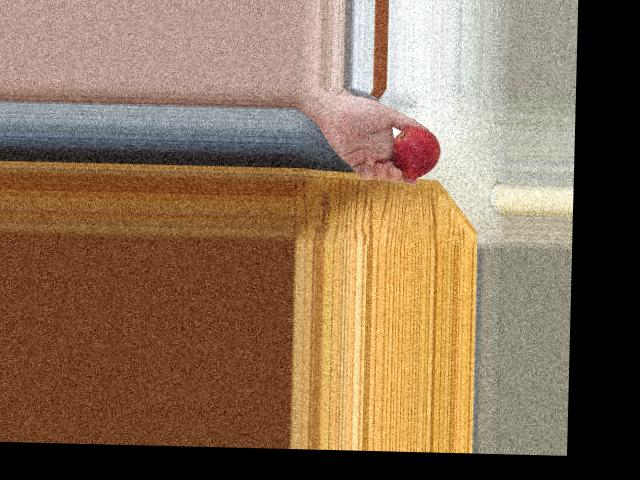apple: (391, 125, 442, 177)
